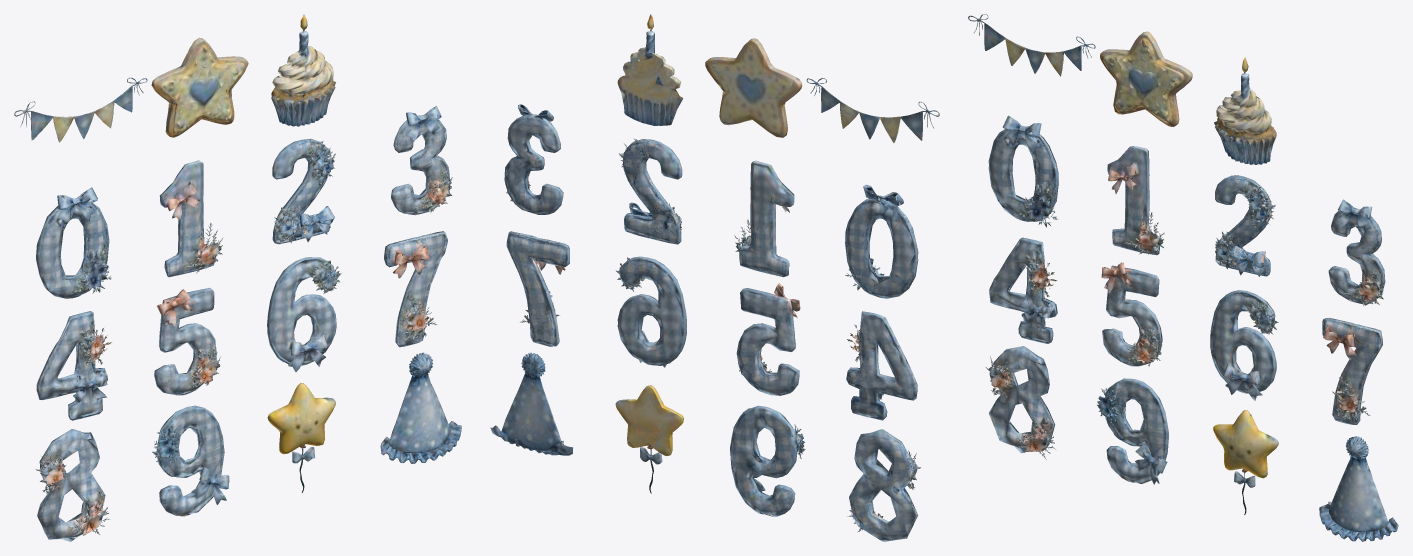
The picture shows the model from 3 angles, left to right: view 1: azimuth 30°, elevation 25°; view 2: azimuth 150°, elevation 25°; view 3: azimuth 330°, elevation 25°; orthographic projection. The views are drawn at different scales.
Visible parts, largest first — view 1: model_part10, model_part6, model_part1, model_part2, model_part4, model_part3, model_part16, model_part7, model_part13, model_part12, model_part17, model_part8 (+4 smaller); view 2: model_part6, model_part10, model_part1, model_part4, model_part2, model_part7, model_part3, model_part13, model_part18, model_part12, model_part17, model_part8 (+3 smaller); view 3: model_part10, model_part6, model_part1, model_part2, model_part4, model_part16, model_part7, model_part3, model_part13, model_part12, model_part17, model_part18 (+4 smaller).
Part boxes in pixels (left/top/right/bottom): model_part10: left=267, top=257, right=341, bottom=371; model_part6: left=151, top=37, right=248, bottom=137; model_part1: left=35, top=429, right=109, bottom=541; model_part2: left=36, top=187, right=111, bottom=298; model_part4: left=152, top=405, right=224, bottom=516; model_part3: left=36, top=311, right=111, bottom=420; model_part16: left=380, top=352, right=461, bottom=463; model_part7: left=154, top=287, right=220, bottom=395; model_part13: left=272, top=138, right=335, bottom=244; model_part12: left=271, top=14, right=335, bottom=126; model_part17: left=384, top=231, right=447, bottom=347; model_part8: left=159, top=160, right=223, bottom=277; model_part6: left=705, top=38, right=802, bottom=137; model_part10: left=615, top=256, right=686, bottom=367; model_part1: left=847, top=429, right=920, bottom=541; model_part4: left=730, top=405, right=805, bottom=516; model_part2: left=845, top=184, right=918, bottom=298; model_part7: left=736, top=283, right=800, bottom=395; model_part3: left=846, top=311, right=917, bottom=420; model_part13: left=618, top=139, right=682, bottom=244; model_part18: left=504, top=104, right=563, bottom=214; model_part12: left=617, top=14, right=682, bottom=125; model_part17: left=506, top=231, right=569, bottom=346; model_part8: left=734, top=160, right=794, bottom=277; model_part10: left=1210, top=290, right=1278, bottom=400; model_part6: left=1100, top=31, right=1192, bottom=126; model_part1: left=986, top=346, right=1055, bottom=459; model_part2: left=988, top=115, right=1058, bottom=227; model_part4: left=1097, top=378, right=1168, bottom=483; model_part16: left=1319, top=436, right=1398, bottom=541; model_part7: left=1101, top=262, right=1162, bottom=366; model_part3: left=989, top=237, right=1057, bottom=343; model_part13: left=1215, top=175, right=1275, bottom=276; model_part12: left=1214, top=57, right=1276, bottom=164; model_part17: left=1322, top=318, right=1382, bottom=424; model_part18: left=1328, top=199, right=1385, bottom=306.
Size of the model in its own units: 1.87 by 1.91 by 0.0996.
Materials: 1 (1 with a texture image).
